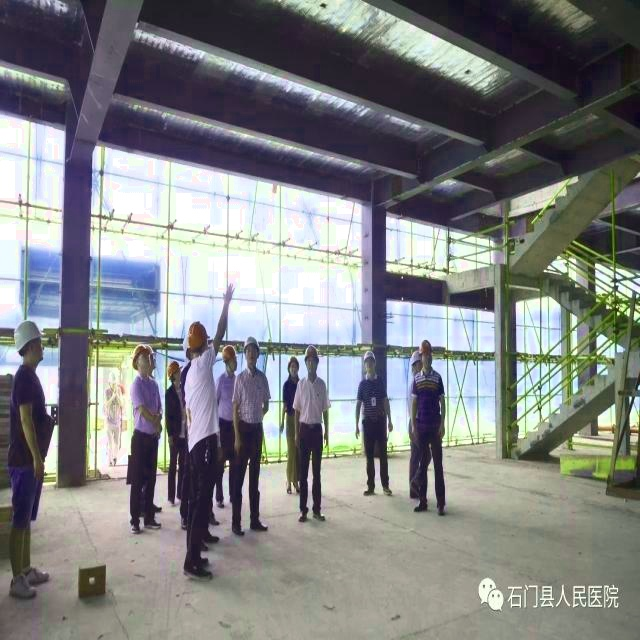Sin_Casco_Mascarrilla: (14, 321, 46, 365), (187, 320, 211, 356), (303, 346, 320, 375)
